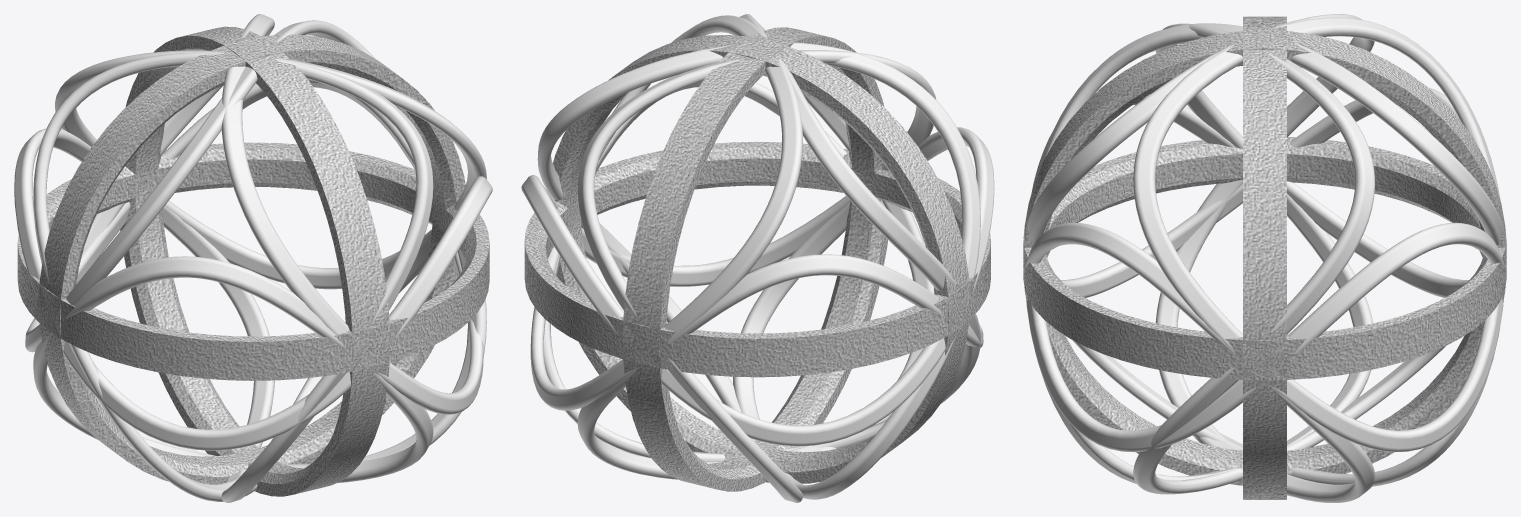
The model's file is CompleteRingMitZwischen.obj.
3 renders of one model, left to right at view 1: azimuth 30°, elevation 25°; view 2: azimuth 150°, elevation 25°; view 3: azimuth 270°, elevation 25°, orthographic. The views are drawn at different scales.
Parts seen in each view (by area): view 1: Solid1:2, Solid1, Solid1:1, Solid2:1, Solid2:5, Solid2, Solid2:4, Solid2:3, Solid2:2; view 2: Solid1:2, Solid1, Solid1:1, Solid2, Solid2:2, Solid2:4, Solid2:5, Solid2:3, Solid2:1; view 3: Solid1, Solid1:2, Solid1:1, Solid2:3, Solid2, Solid2:2, Solid2:1, Solid2:5, Solid2:4.
Boxes of the visible parts, x1,y1,x2,y2 form: Solid1:2: (120, 26, 390, 496); Solid1: (17, 142, 489, 380); Solid1:1: (38, 34, 465, 484); Solid2:1: (14, 128, 492, 450); Solid2:5: (55, 50, 433, 502); Solid2: (25, 79, 483, 414); Solid2:4: (83, 14, 433, 482); Solid2:3: (33, 52, 486, 501); Solid2:2: (33, 20, 486, 465); Solid1:2: (623, 27, 887, 491); Solid1: (524, 141, 990, 377); Solid1:1: (553, 35, 970, 483); Solid2: (521, 127, 994, 446); Solid2:2: (537, 42, 980, 499); Solid2:4: (577, 50, 936, 502); Solid2:5: (577, 14, 934, 479); Solid2:3: (543, 15, 980, 461); Solid2:1: (530, 76, 983, 410); Solid1: (1023, 137, 1506, 380); Solid1:2: (1023, 30, 1506, 485); Solid1:1: (1243, 16, 1286, 499); Solid2:3: (1133, 14, 1375, 502); Solid2: (1026, 87, 1504, 452); Solid2:2: (1133, 23, 1375, 494); Solid2:1: (1025, 87, 1503, 452); Solid2:5: (1025, 17, 1500, 486); Solid2:4: (1035, 23, 1504, 483).
Bounding box in the file's own units: 110 × 110 × 110.
Materials: 2 (1 with a texture image).
